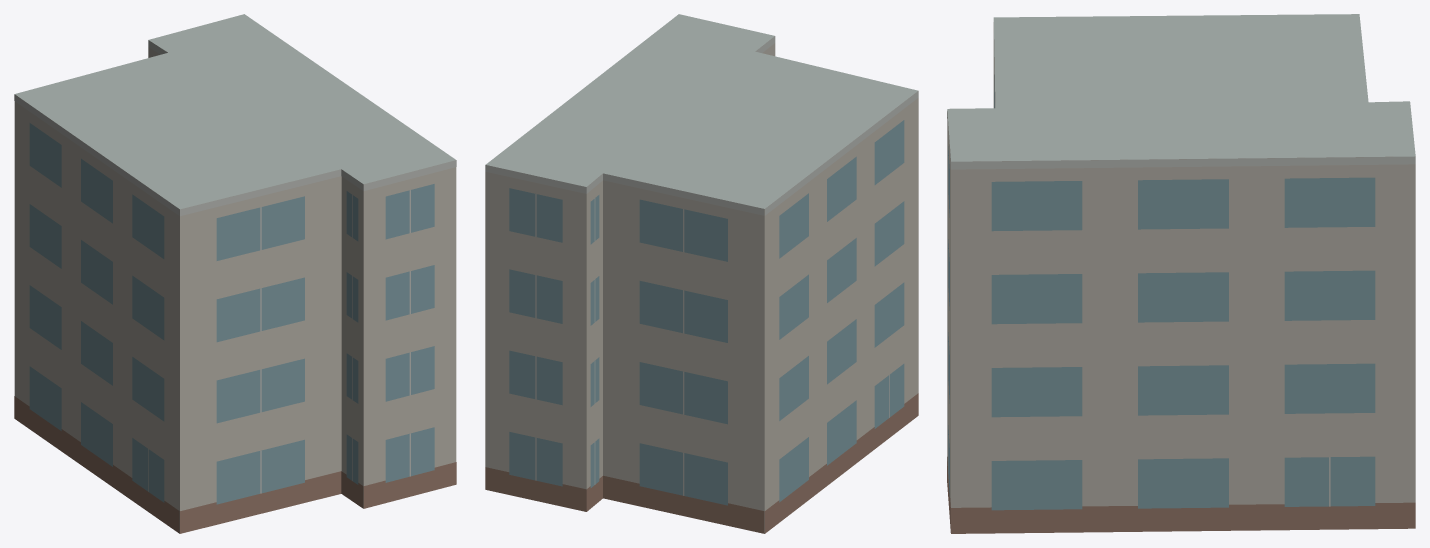
The model's file is survey-upis-32800935.glb.
3 views of the same model, side by side, from view 1: azimuth 30°, elevation 25°; view 2: azimuth 150°, elevation 25°; view 3: azimuth 270°, elevation 25° (orthographic). The views are drawn at different scales.
Parts seen in each view (by area): view 1: survey-upis-32800935.tmp; view 2: survey-upis-32800935.tmp; view 3: survey-upis-32800935.tmp.
Part boxes in pixels (x1,y1,x2,y2): survey-upis-32800935.tmp: [14, 14, 456, 533]; survey-upis-32800935.tmp: [485, 14, 918, 533]; survey-upis-32800935.tmp: [947, 14, 1415, 533].
Size of the model in its own units: 9.71 by 11.4 by 13.02.
